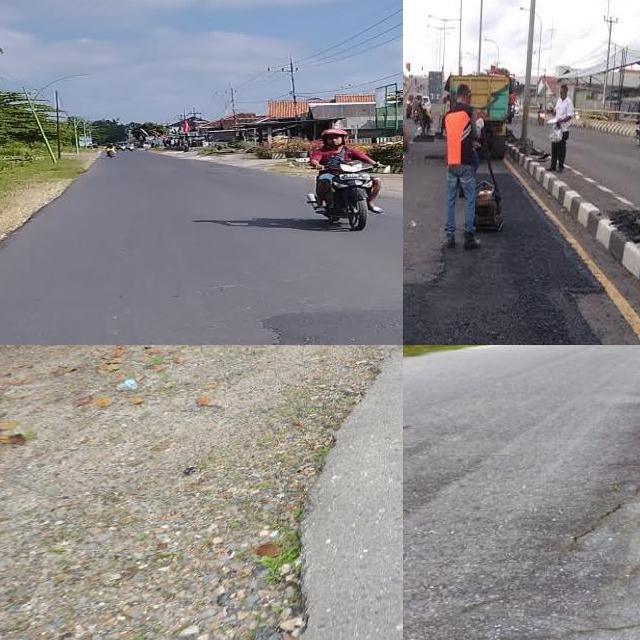Pinggir: (259, 345, 403, 640)
Sambungan: (403, 167, 609, 345)
